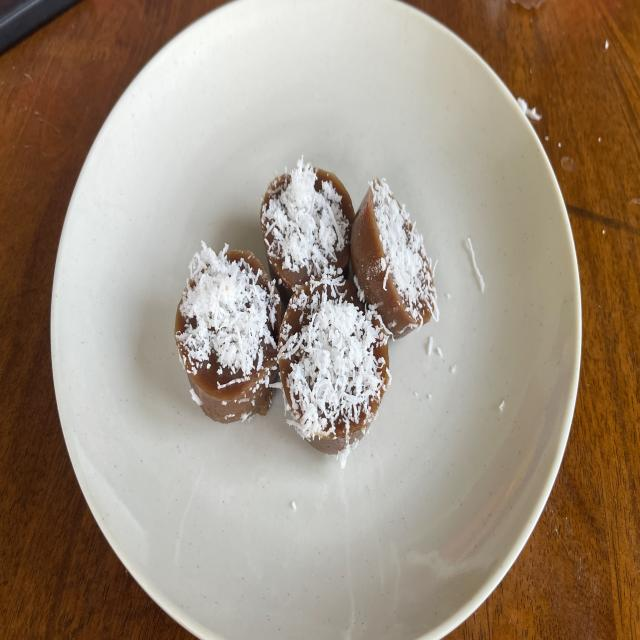Kuih lompang: (278, 278, 390, 453), (175, 242, 281, 422), (351, 178, 439, 338), (261, 158, 355, 304)
